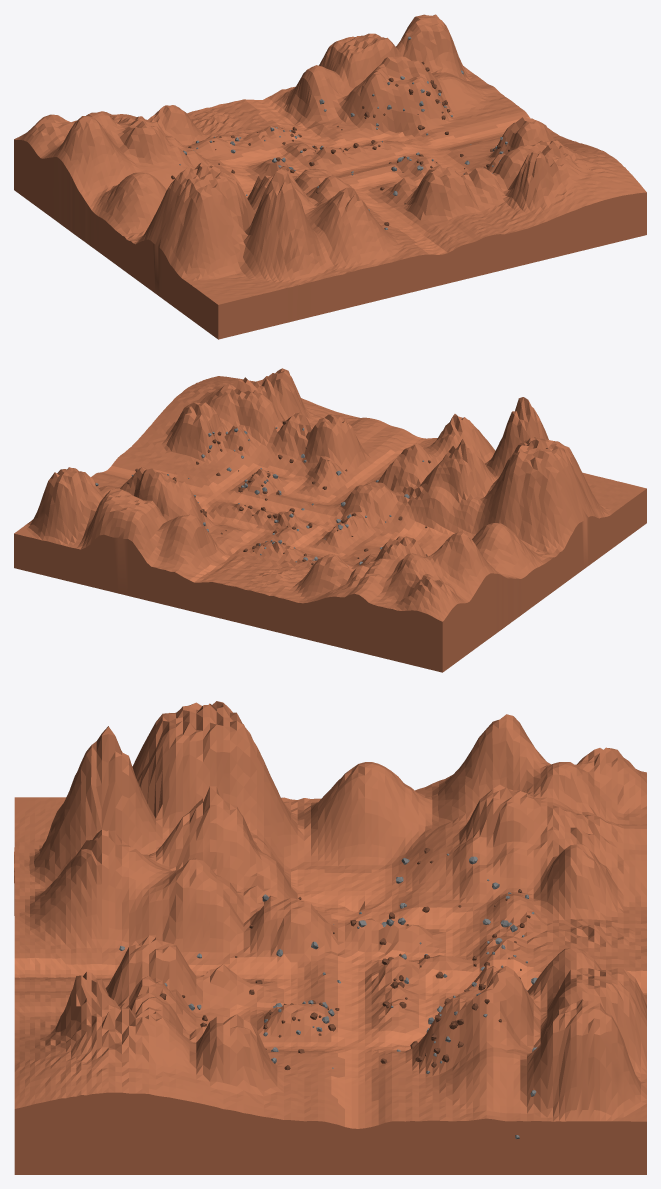
Rendered from Map 1.fbx.
3 views of the same model, one above another, from view 1: azimuth 30°, elevation 25°; view 2: azimuth 150°, elevation 25°; view 3: azimuth 270°, elevation 25° (orthographic). The views are drawn at different scales.
Parts seen in each view (by area): view 1: Земля; view 2: Земля; view 3: Земля.
Boxes of the visible parts, box(x1,y1,x2,y2) form: Земля: box(14, 14, 646, 339); Земля: box(14, 368, 646, 672); Земля: box(14, 701, 646, 1174).
Size of the model in its own units: 13840 by 4551 by 11371.
